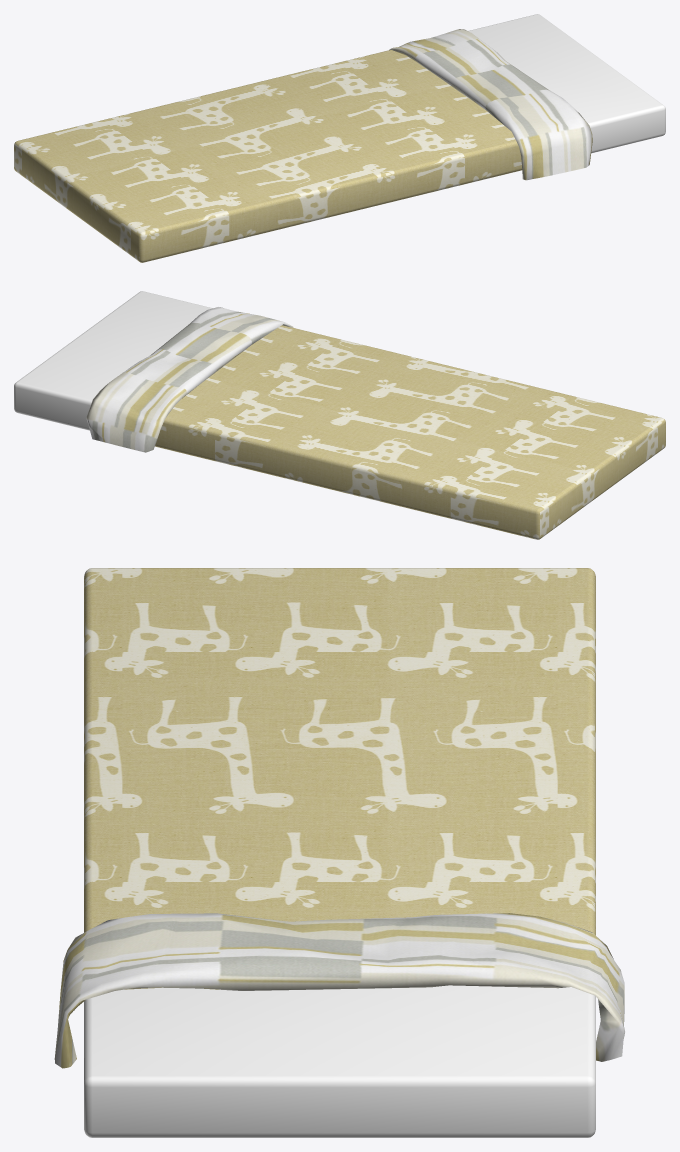
Rendered from Mattress.fbx.
The picture shows the model from 3 angles, top to bottom: view 1: azimuth 30°, elevation 25°; view 2: azimuth 150°, elevation 25°; view 3: azimuth 270°, elevation 25°; orthographic projection. The views are drawn at different scales.
Parts seen in each view (by area): view 1: Mattress; view 2: Mattress; view 3: Mattress.
Part boxes in pixels (<box>): Mattress: <box>14,14,665,262</box>; Mattress: <box>14,291,665,539</box>; Mattress: <box>54,568,624,1137</box>.
Bounding box in the file's own units: 158 × 14.2 × 74.26.
Materials: 2 (2 with a texture image).
